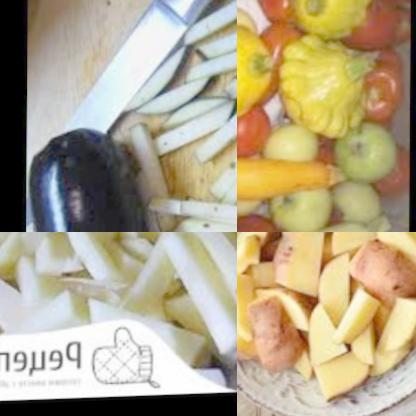eggplant: (140, 0, 237, 232), (23, 98, 173, 232)
potato: (0, 232, 237, 396), (237, 232, 416, 408)
squash-patisson: (279, 34, 374, 139), (237, 21, 289, 124), (279, 0, 370, 51)
tomato: (364, 53, 411, 135), (364, 5, 411, 66), (373, 148, 410, 206), (237, 102, 269, 160), (237, 201, 281, 232), (373, 0, 411, 25)
vegetable marrow: (237, 148, 351, 209), (237, 208, 403, 232), (337, 118, 396, 182)
